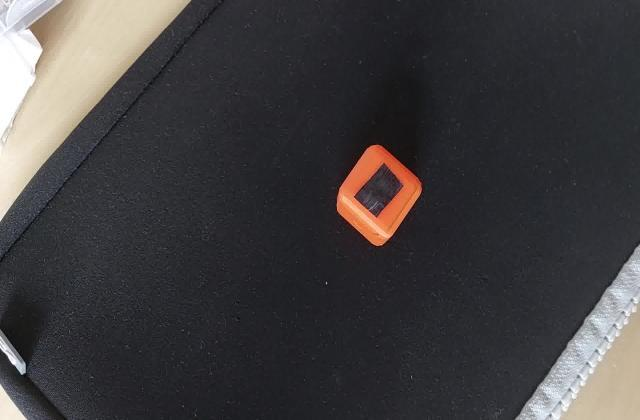black: (346, 163, 411, 219)
sticker: (334, 144, 424, 252)
